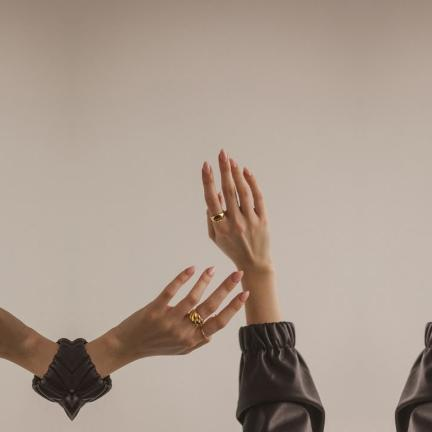Nail: (232, 270, 243, 283), (220, 148, 228, 162), (185, 266, 196, 275), (207, 266, 216, 277), (240, 291, 249, 302), (203, 161, 210, 175), (243, 166, 251, 176), (230, 158, 237, 168)
